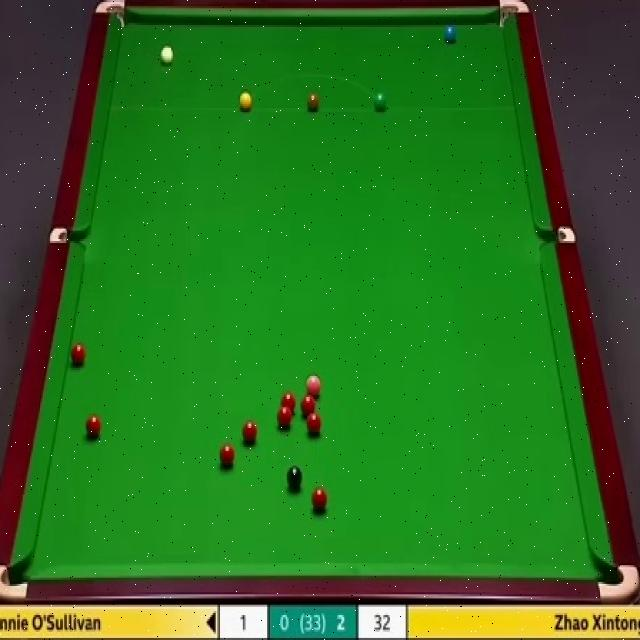black-ball: (286, 465, 304, 490)
blue-ball: (443, 22, 456, 44)
brown-ball: (307, 91, 321, 112)
green-ball: (372, 92, 388, 114)
pink-ball: (306, 372, 323, 398)
red-ball: (85, 411, 101, 439), (276, 406, 294, 430), (306, 410, 322, 436), (301, 394, 317, 419), (241, 419, 257, 443), (219, 444, 236, 466), (70, 344, 87, 366), (281, 391, 297, 413), (313, 487, 327, 510)
white-ball: (160, 45, 174, 66)
yellow-ball: (238, 91, 253, 112)
